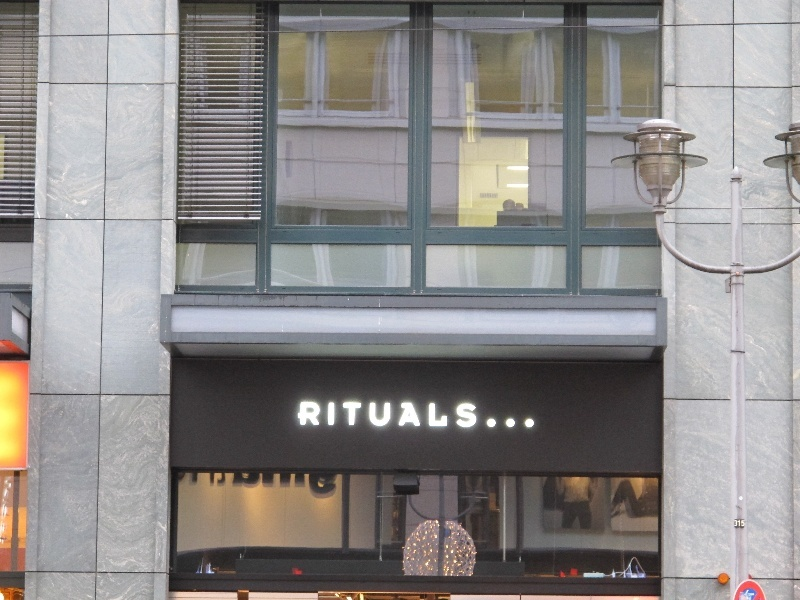text: (321, 472, 337, 501), (305, 401, 320, 430), (321, 401, 336, 430), (337, 401, 352, 430), (353, 401, 368, 430), (369, 401, 384, 430), (385, 401, 400, 430), (401, 401, 416, 430), (417, 401, 432, 430), (433, 401, 448, 430), (449, 401, 464, 430), (465, 401, 480, 430), (481, 401, 496, 430), (497, 401, 512, 430), (513, 401, 528, 430), (193, 472, 208, 501), (209, 472, 224, 501), (225, 472, 240, 501), (241, 472, 256, 501), (257, 472, 272, 501), (273, 472, 288, 501), (289, 472, 304, 501), (305, 472, 320, 501), (179, 472, 192, 501), (298, 401, 304, 430), (529, 401, 535, 430), (737, 522, 745, 529), (735, 522, 736, 529)
